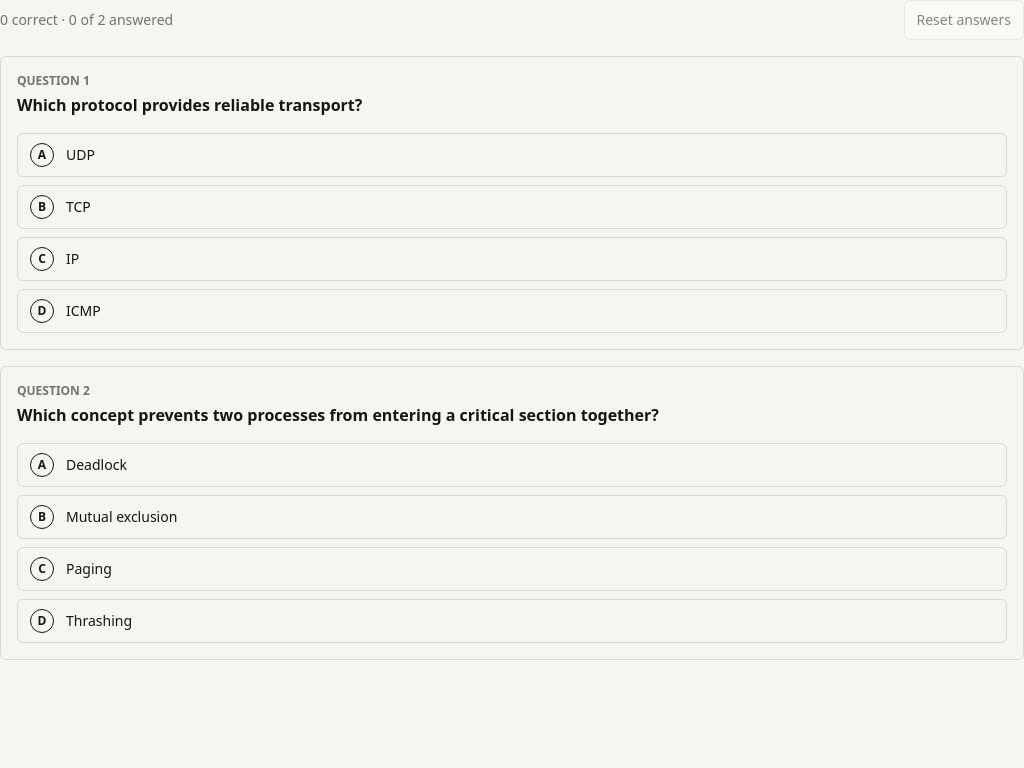
Scenario: InteractiveMcqs › shows correct feedback when the user selects the right option
What coordinates should you click on to do the following:
click the button "B TCP"
I would click on:
 (42, 207)
Its box is [17,185,1007,229].
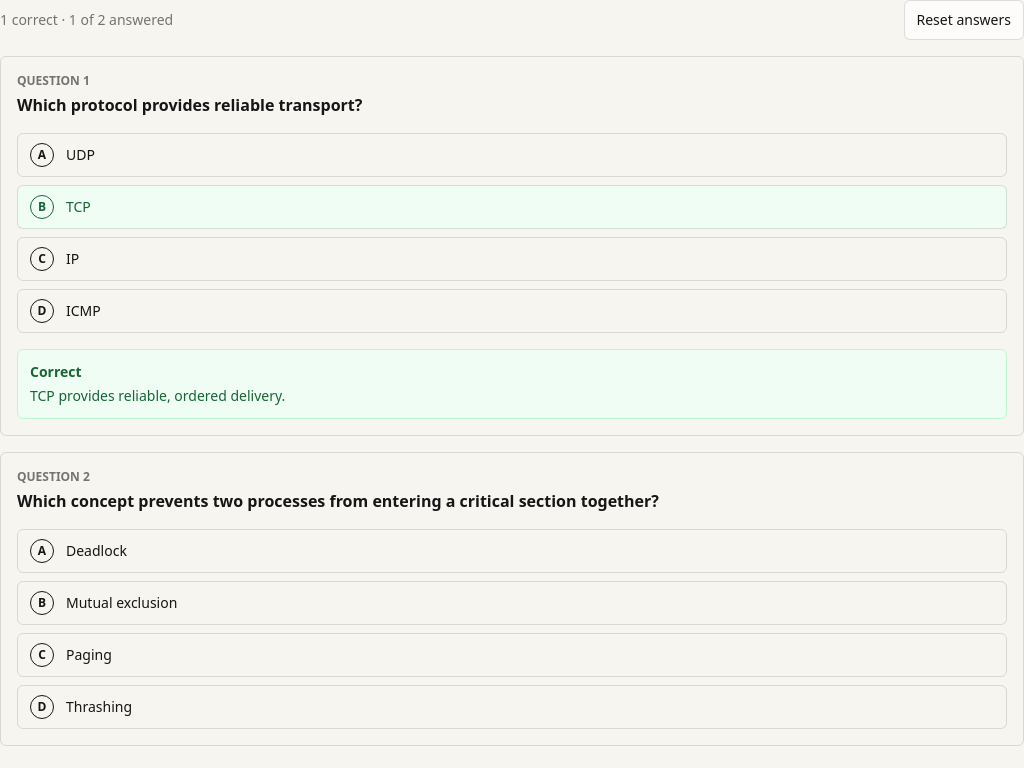
expect the text "Correct" is shown: met, box [30,362,82,381]
expect the text "1 correct · 1 of 2 answered" is shown: met, box [0,10,173,30]
expect the text "TCP provides reliable, ordered delivery." is shown: met, box [30,386,285,405]
